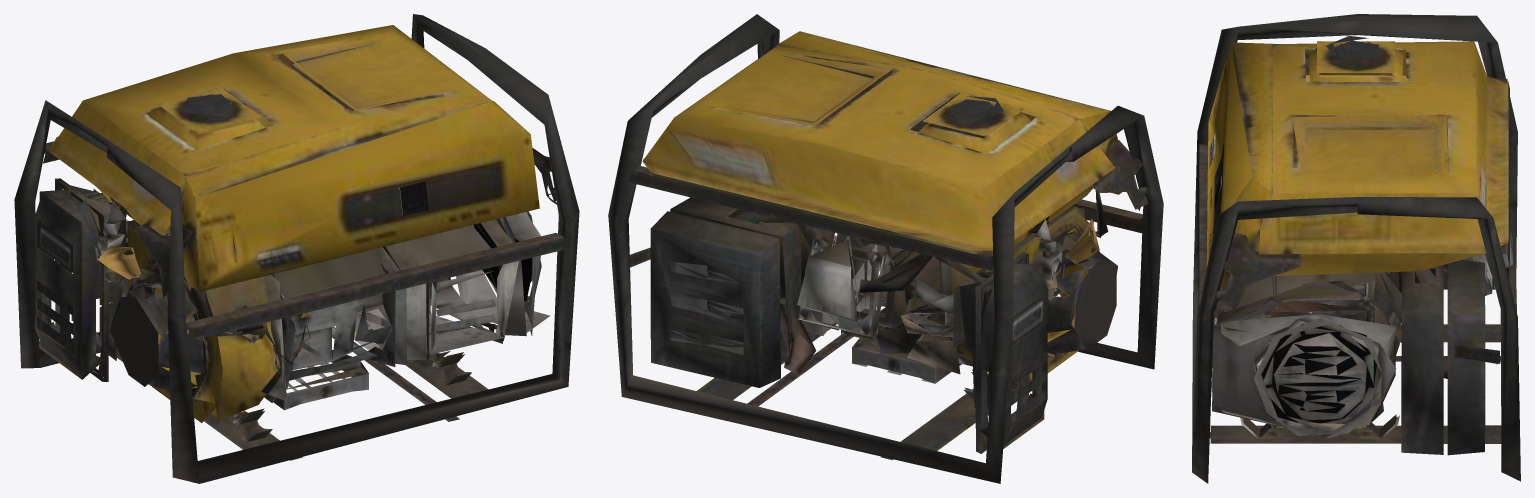
File: generator.glb
3 renders of one model, left to right at view 1: azimuth 30°, elevation 25°; view 2: azimuth 150°, elevation 25°; view 3: azimuth 270°, elevation 25°, orthographic.
Visible parts, largest first — view 1: generator; view 2: generator; view 3: generator.
Boxes of the visible parts, bbox=[...] form: generator: bbox=[14, 14, 579, 483]; generator: bbox=[608, 14, 1163, 483]; generator: bbox=[1192, 14, 1520, 483].
Size of the model in its own units: 0.8153 by 0.5753 by 0.564.
2 materials, 2 textured.
